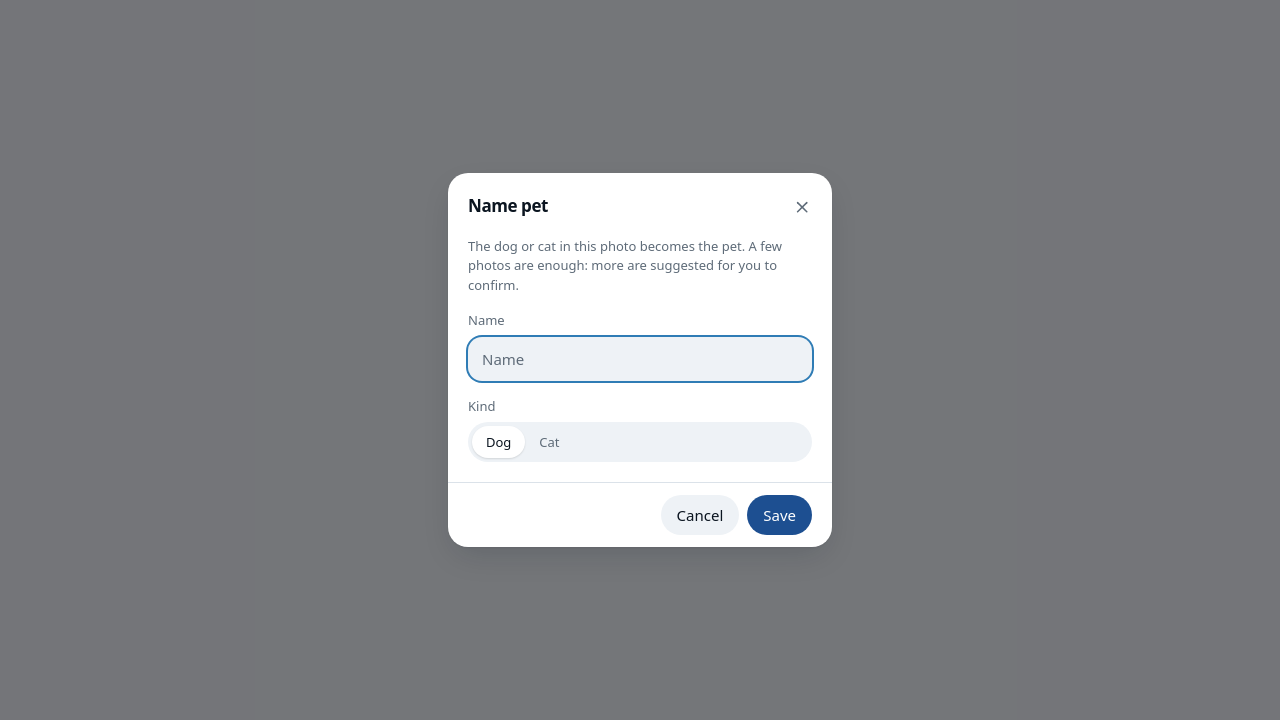
Test: NamePetSheet › shows what the server said when it refuses, and stays open
Type "Pet A" into the field labelled "Name" at (640, 359), box [468,337,812,381]
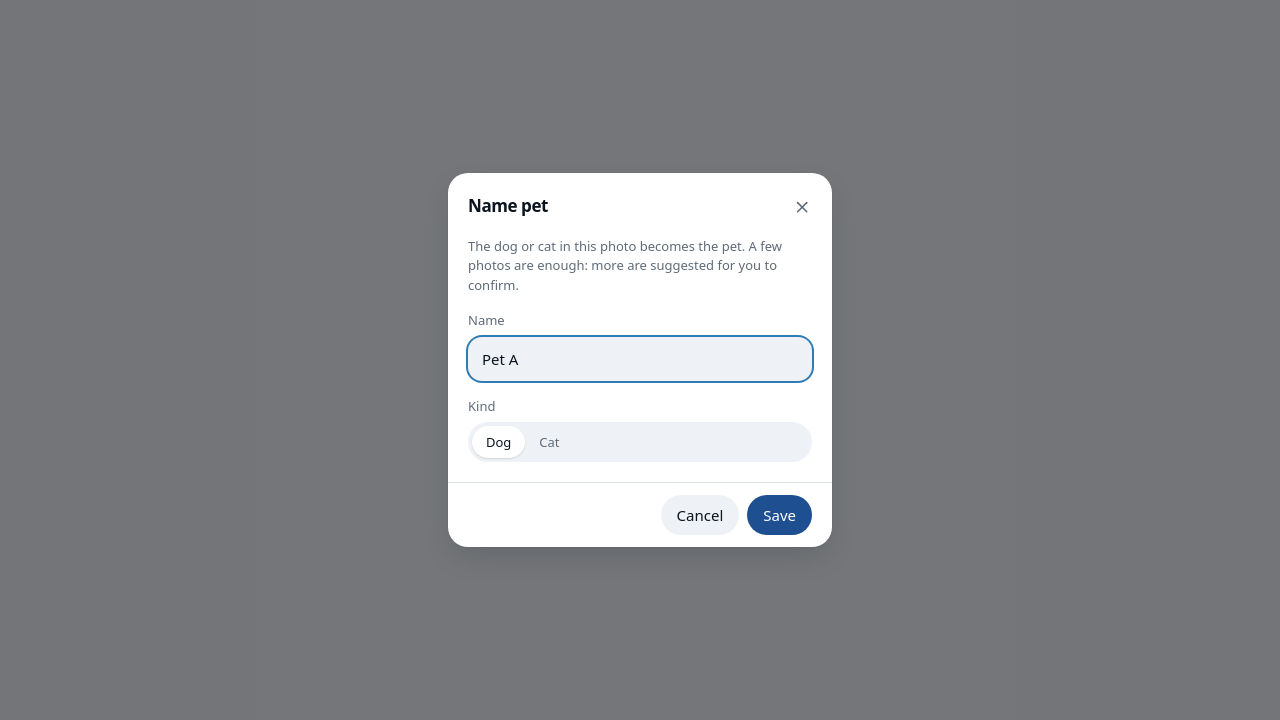
Click the button "Save" at (780, 515), box [747,495,812,535]
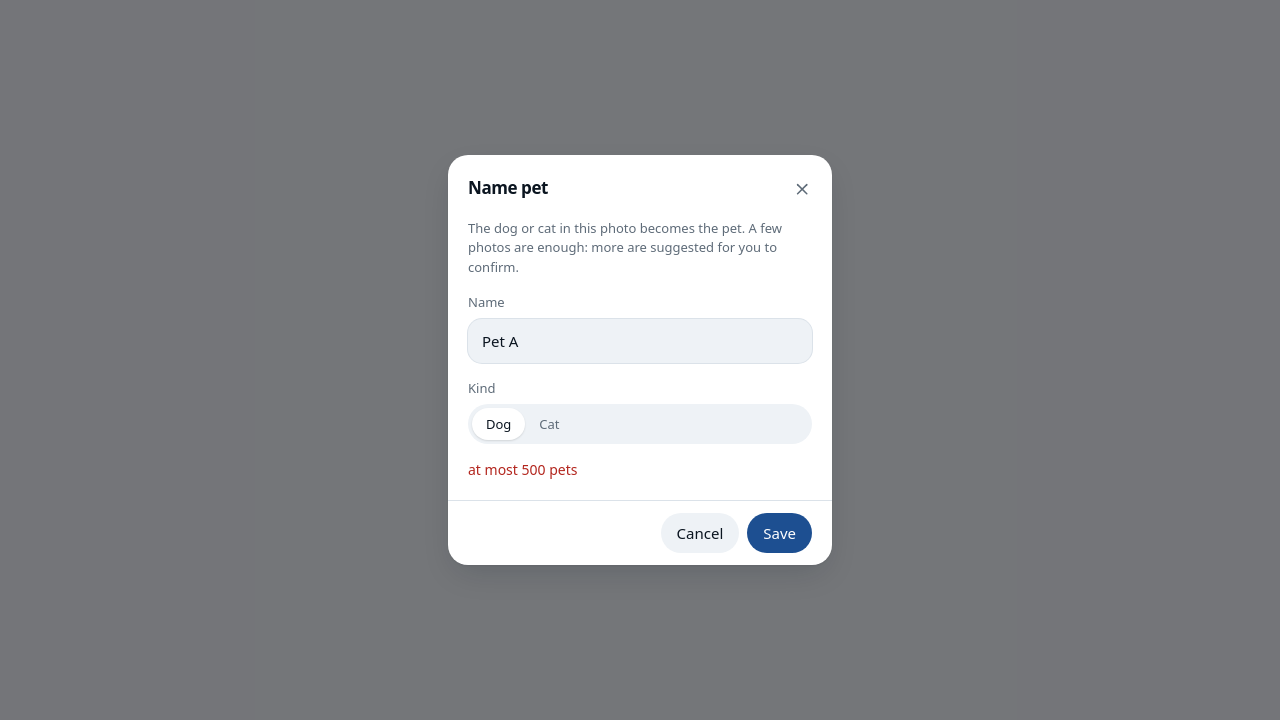
Expected: the text "at most 500 pets" is shown, [468,460,578,479]
